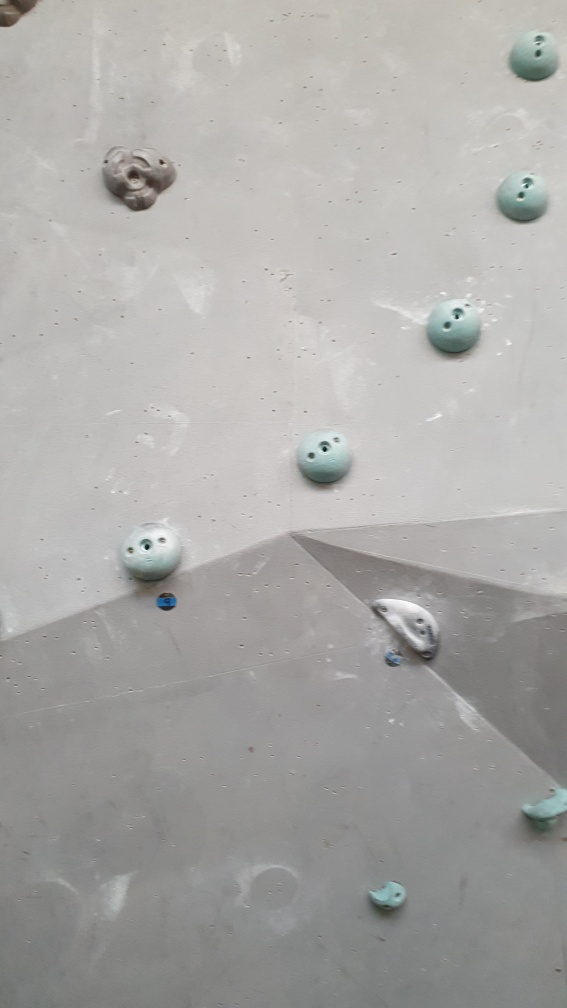Hand Start: (151, 589, 181, 616), (385, 650, 406, 671)
Jug: (96, 141, 183, 212)
Sloper: (114, 521, 185, 587), (296, 423, 358, 492), (425, 294, 484, 362), (507, 25, 562, 86), (494, 164, 550, 223)
